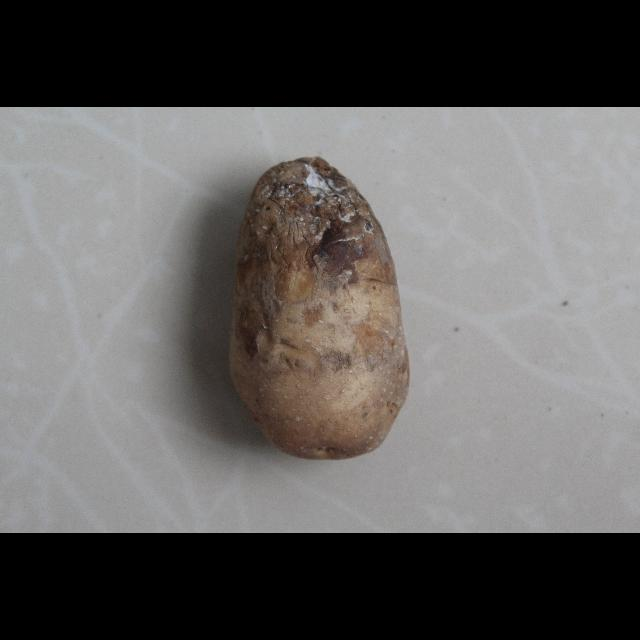Diseased-fungal potato: (226, 173, 414, 484)
